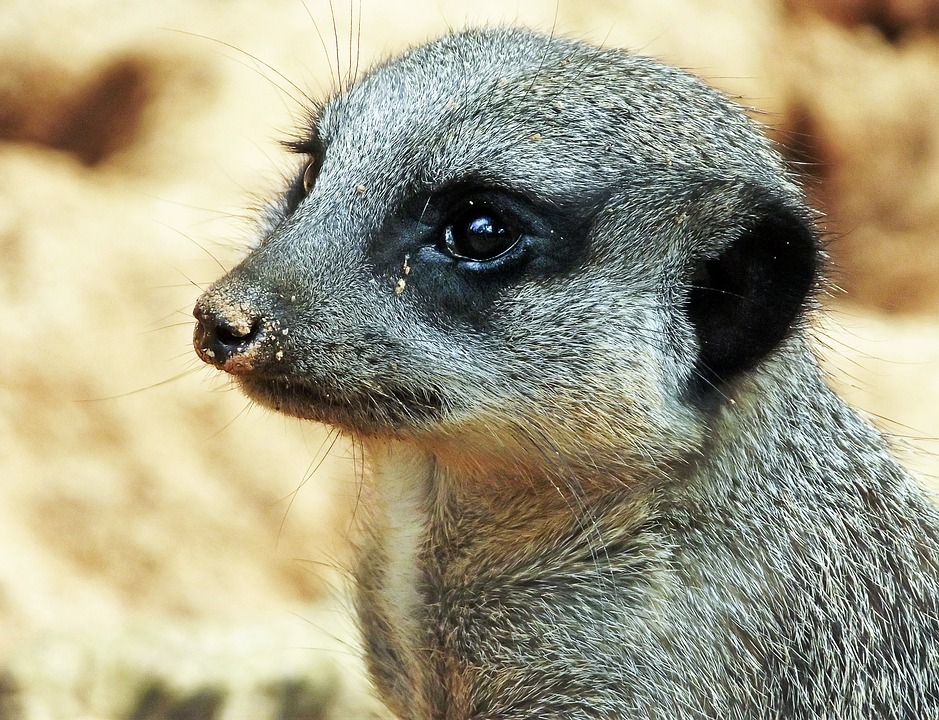meerkat: (176, 16, 939, 718)
